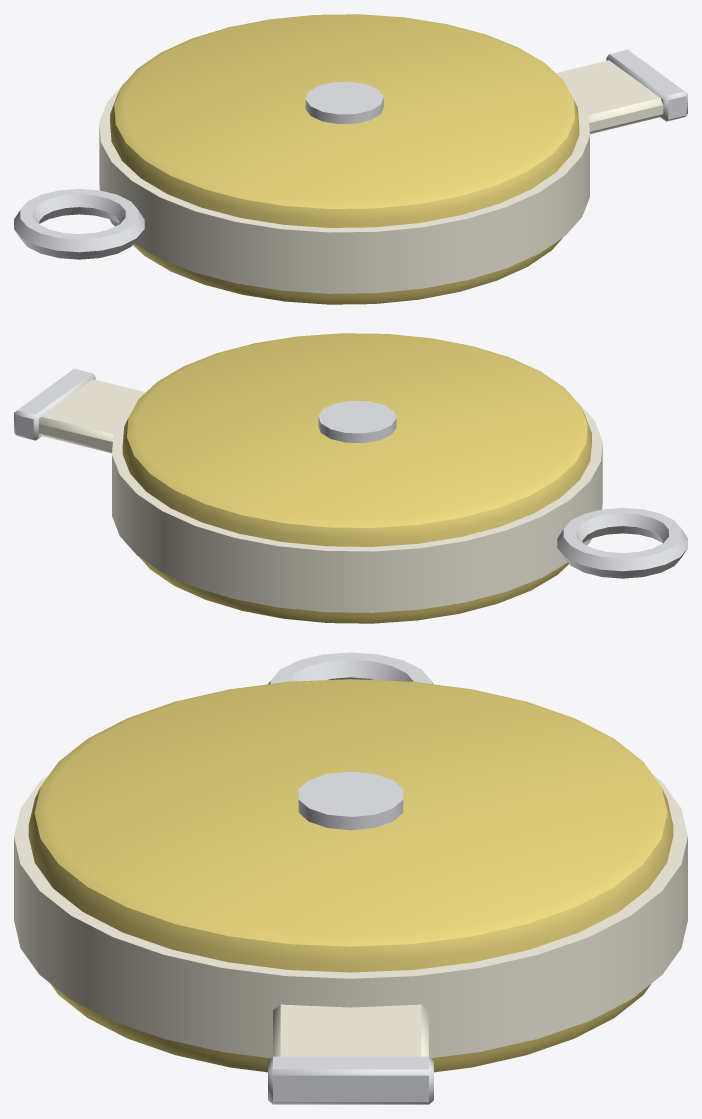
The model's file is tape_measure.glb.
3 views of the same model, one above another, from view 1: azimuth 30°, elevation 25°; view 2: azimuth 150°, elevation 25°; view 3: azimuth 270°, elevation 25° (orthographic). The views are drawn at different scales.
Parts seen in each view (by area): view 1: tape_measure; view 2: tape_measure; view 3: tape_measure.
Boxes of the visible parts, x1,y1,x2,y2 form: tape_measure: (14, 14, 687, 304); tape_measure: (14, 333, 687, 623); tape_measure: (14, 652, 687, 1104).
Bounding box in the file's own units: 0.1033 × 0.0175 × 0.069.
